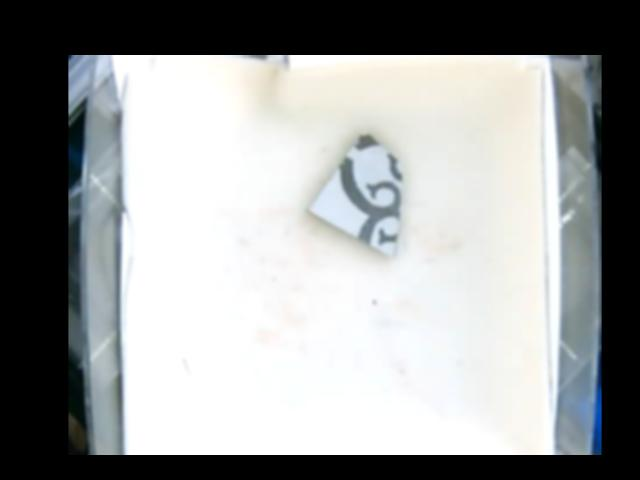China: (307, 130, 402, 255)
